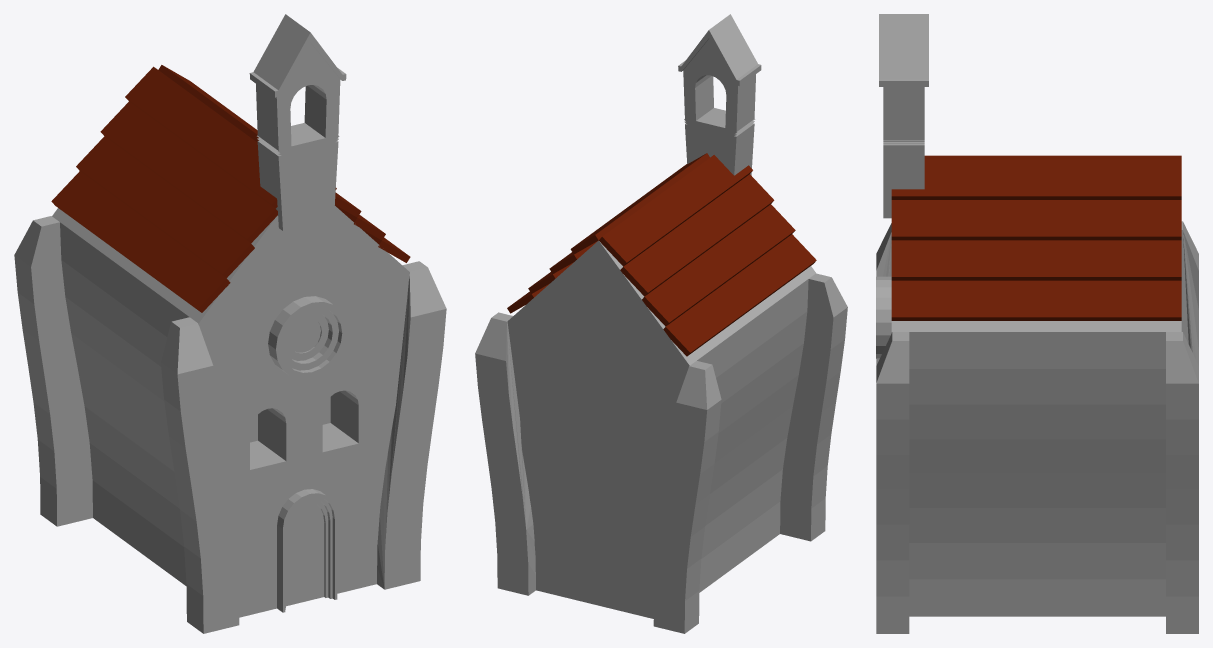
Rendered from church.fbx.
The picture shows the model from 3 angles, left to right: view 1: azimuth 30°, elevation 25°; view 2: azimuth 150°, elevation 25°; view 3: azimuth 270°, elevation 25°; orthographic projection. The views are drawn at different scales.
Parts seen in each view (by area): view 1: pCylinder17; view 2: pCylinder17; view 3: pCylinder17.
Boxes of the visible parts, left/top/right/bottom form: pCylinder17: left=14, top=14, right=446, bottom=633; pCylinder17: left=475, top=14, right=847, bottom=633; pCylinder17: left=876, top=14, right=1198, bottom=633.
Size of the model in its own units: 7.41 by 15.11 by 7.79.
